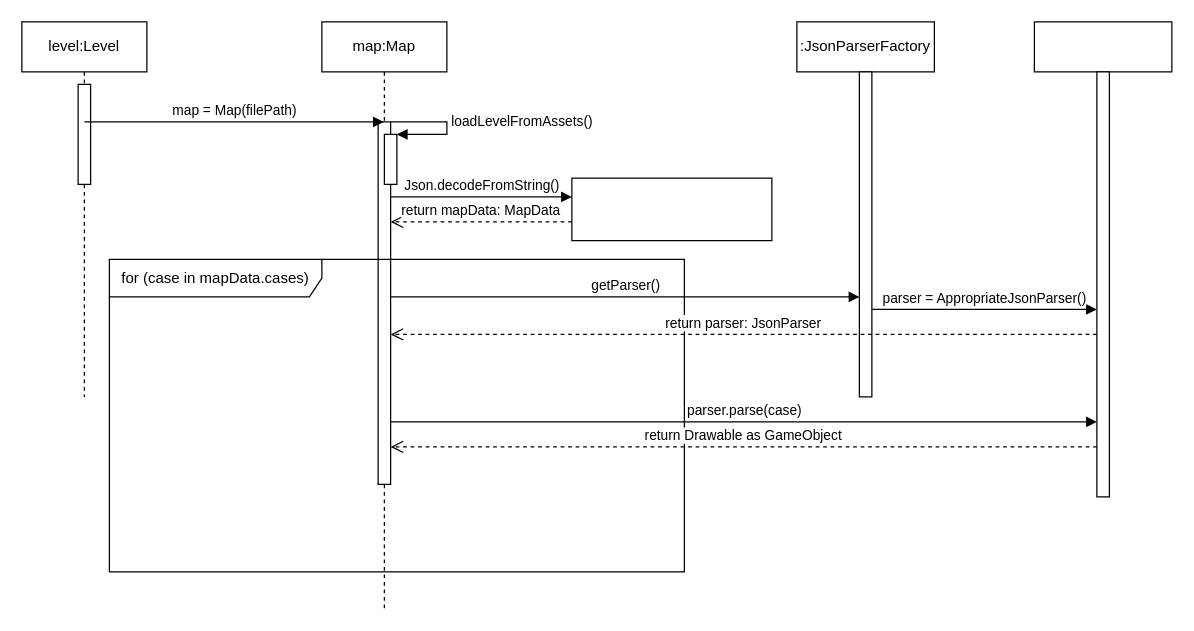
Some shapes in this 1194 by 631 pixel diagram are drawn without their labels. Each missing label, with the box of its shape:
Kotlin Serialization Library: (571, 177, 772, 241)
parser:JsonParser: (1033, 21, 1172, 497)
